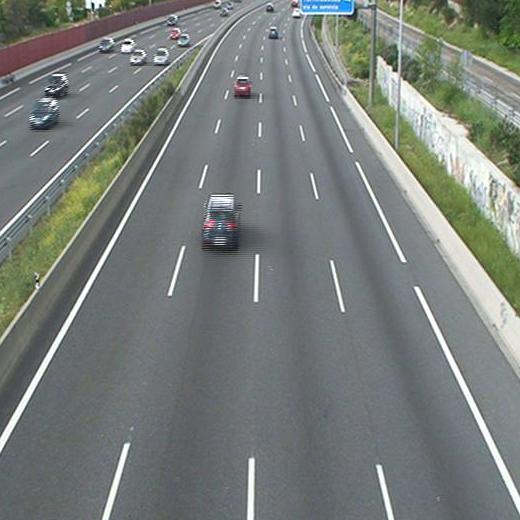car: (203, 195, 240, 243), (234, 77, 252, 95), (268, 27, 278, 39), (265, 3, 276, 11), (292, 8, 301, 16)
